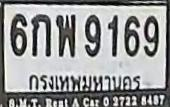1: (107, 14, 117, 56)
6: (9, 13, 26, 55), (124, 15, 139, 56)
9: (84, 14, 100, 56), (143, 15, 158, 56)
A01: (30, 13, 50, 56)
A30: (55, 13, 75, 56)
BKK: (25, 72, 143, 92)
